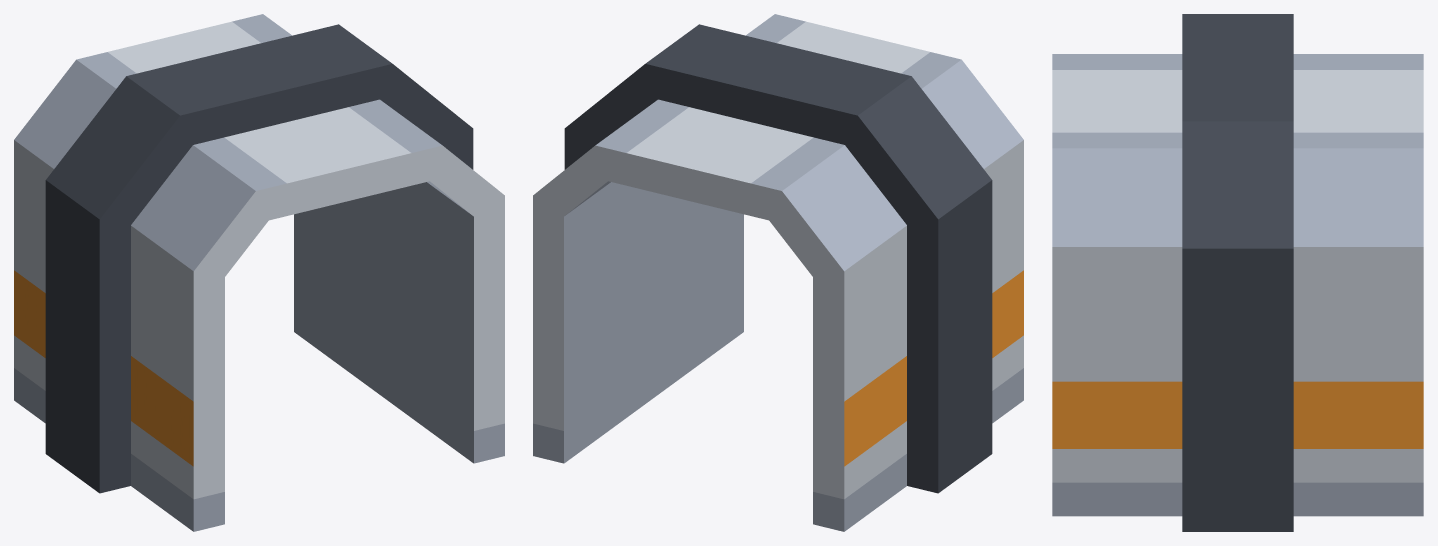
File: corridor_detailed.dae
3 renders of one model, left to right at view 1: azimuth 30°, elevation 25°; view 2: azimuth 150°, elevation 25°; view 3: azimuth 270°, elevation 25°, orthographic. The views are drawn at different scales.
Visible parts, largest first — view 1: corridor_detailed; view 2: corridor_detailed; view 3: corridor_detailed.
Boxes of the visible parts, bbox=[...] form: corridor_detailed: bbox=[14, 14, 504, 531]; corridor_detailed: bbox=[533, 14, 1023, 531]; corridor_detailed: bbox=[1052, 14, 1423, 531].
Size of the model in its own units: 1.2 by 1.1 by 1.
